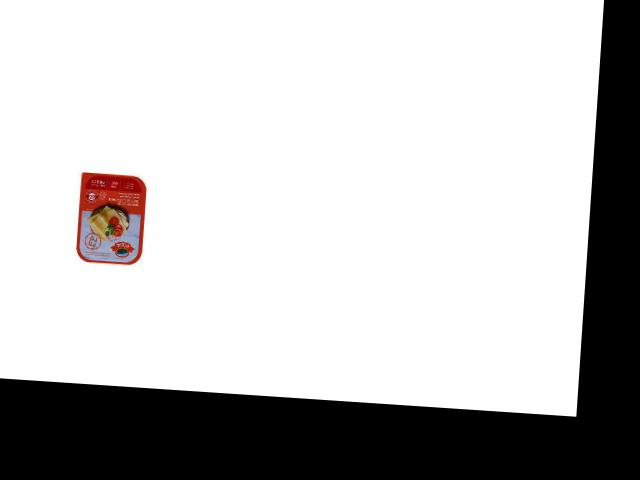cheese: (74, 166, 151, 268)
